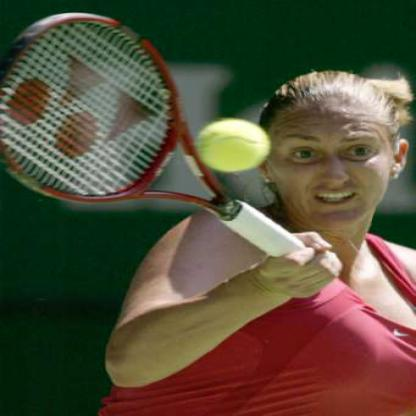face: (265, 77, 395, 232)
